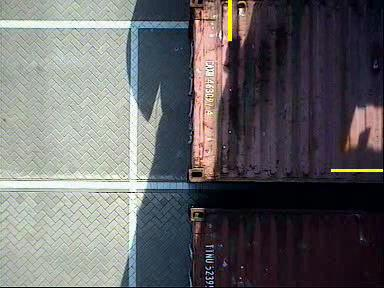groundmarker_2: (133, 225, 205, 273), (137, 54, 178, 97)
